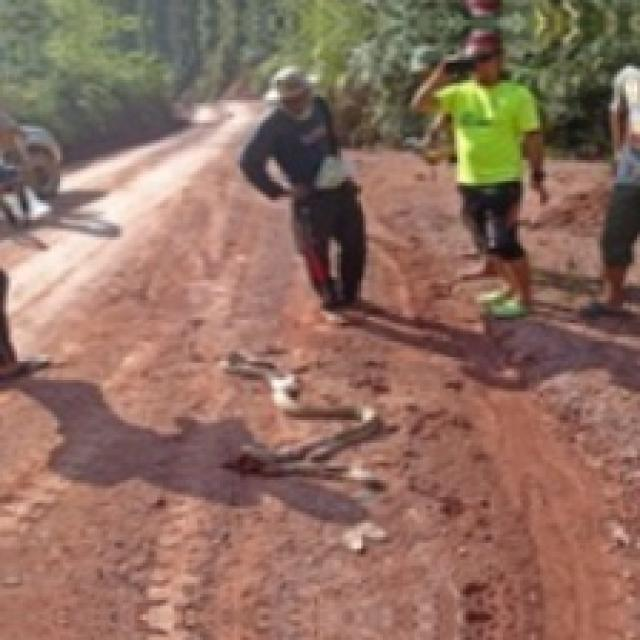king cobra: (226, 352, 384, 489)
